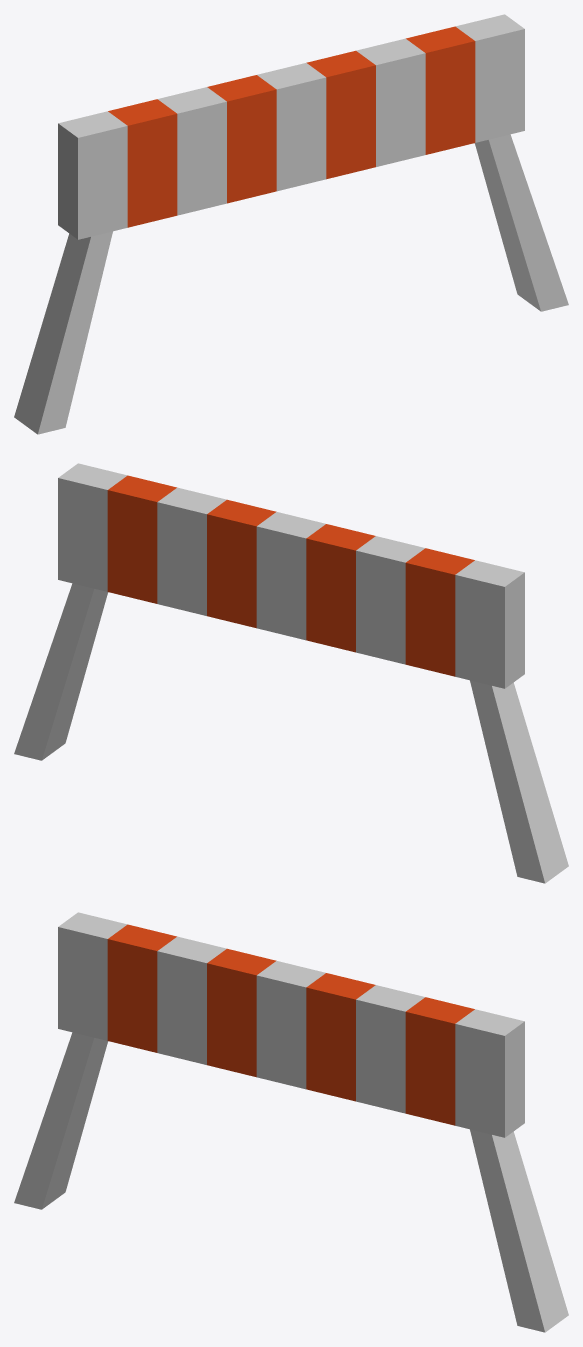
File: obstacleOffWhite.fbx
3 views of the same model, one above another, from view 1: azimuth 30°, elevation 25°; view 2: azimuth 150°, elevation 25°; view 3: azimuth 330°, elevation 25° (orthographic).
Parts seen in each view (by area): view 1: Cube; view 2: Cube; view 3: Cube.
Part boxes in pixels (x1,y1,x2,y2): Cube: (14, 14, 568, 434); Cube: (14, 463, 568, 883); Cube: (14, 912, 568, 1332).
Bounding box in the file's own units: 951 × 488 × 73.72.
